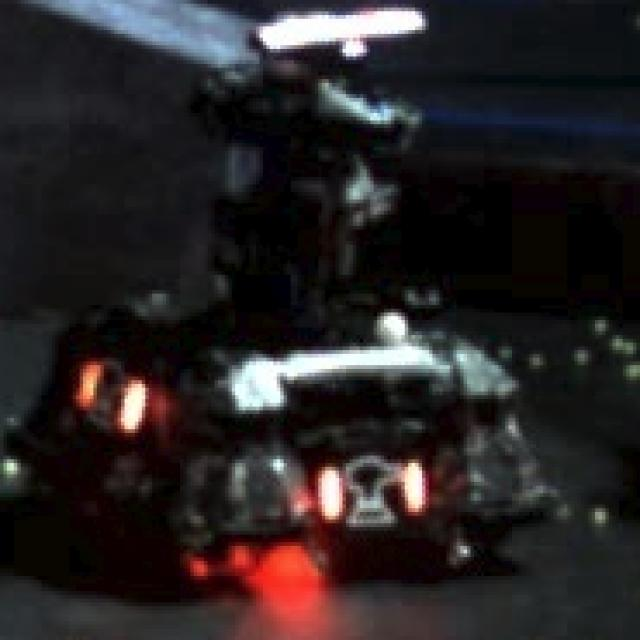Rs: (315, 459, 425, 516), (76, 365, 149, 429)
